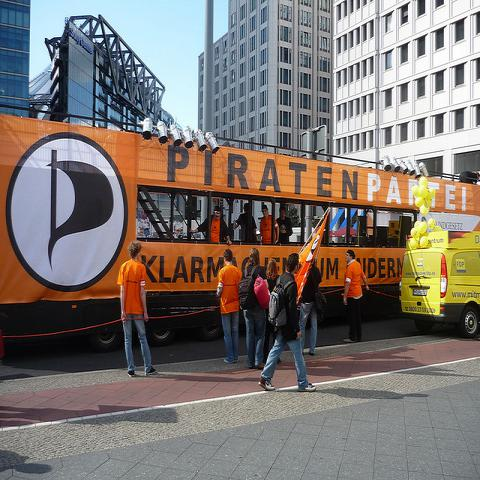bus: (1, 111, 479, 354)
truck: (400, 228, 479, 338)
